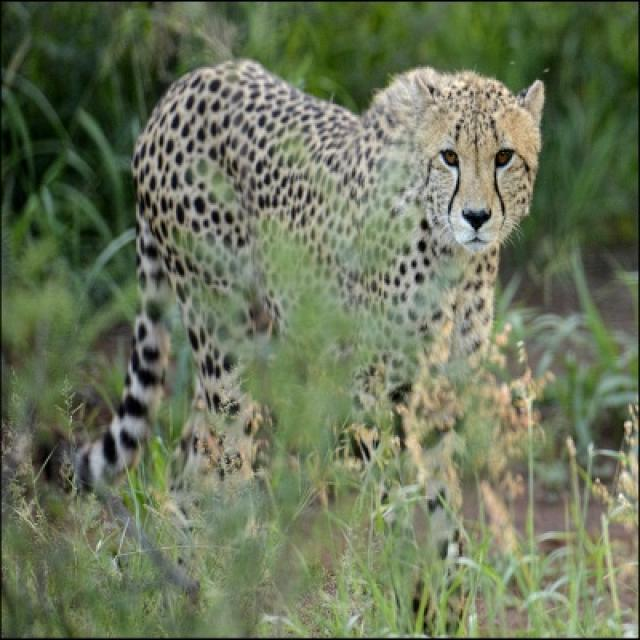Cheetah: (21, 57, 550, 631)
